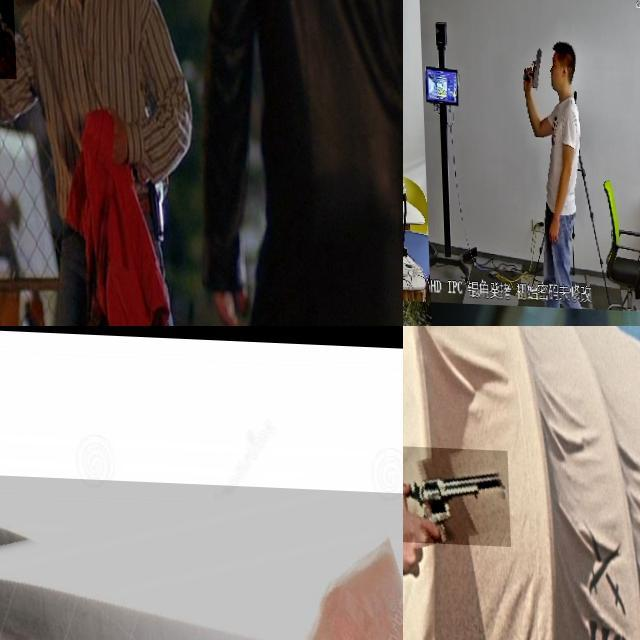-: (0, 471, 403, 640)
gun-knife-thesis - v11 Yolov5 augmented: (403, 442, 508, 542), (0, 0, 54, 148), (520, 40, 542, 86), (403, 27, 418, 75)
